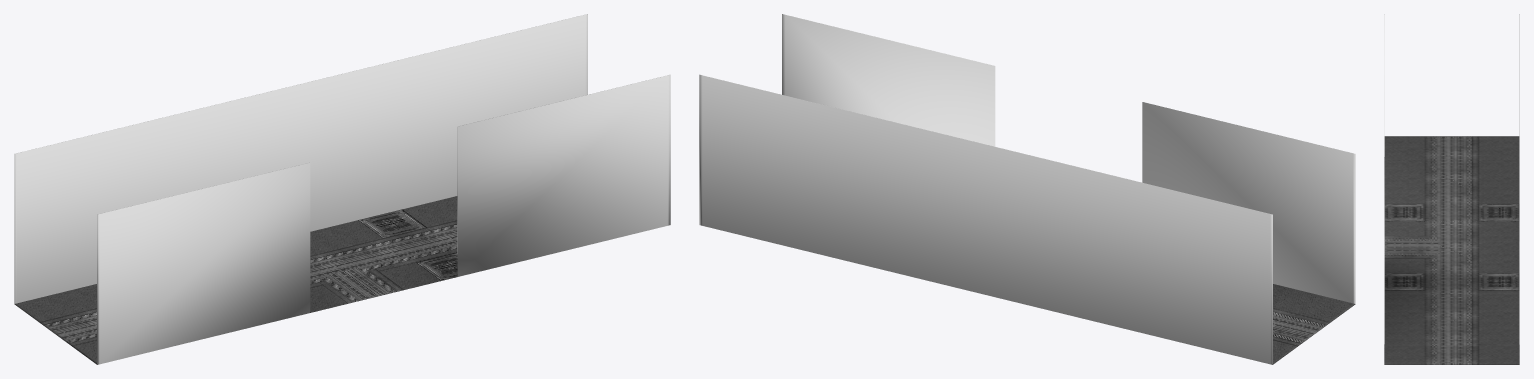
Rendered from corridor_c-7.fbx.
The picture shows the model from 3 angles, left to right: view 1: azimuth 30°, elevation 25°; view 2: azimuth 150°, elevation 25°; view 3: azimuth 270°, elevation 25°; orthographic projection. The views are drawn at different scales.
Visible parts, largest first — view 1: corridor C-7; view 2: corridor C-7; view 3: corridor C-7.
Boxes of the visible parts, x1,y1,x2,y2 form: corridor C-7: (14,14,670,364); corridor C-7: (699,14,1355,364); corridor C-7: (1384,14,1519,364).
Bounding box in the file's own units: 1443 × 361 × 362.
